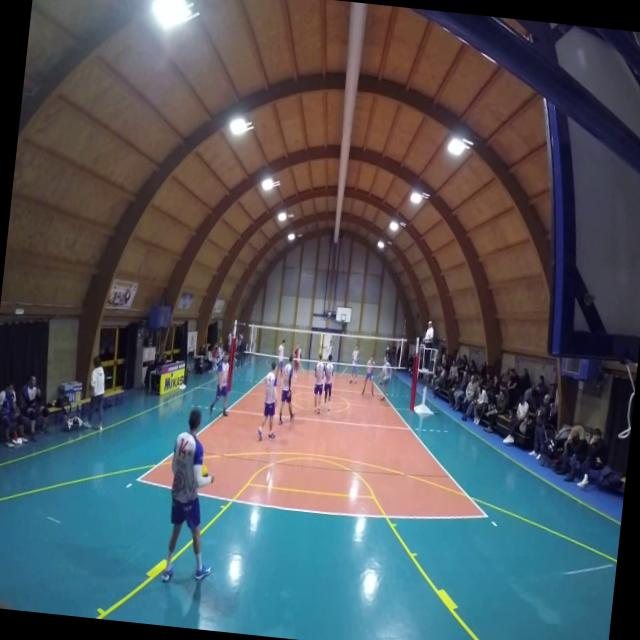serve: (154, 400, 232, 584)
